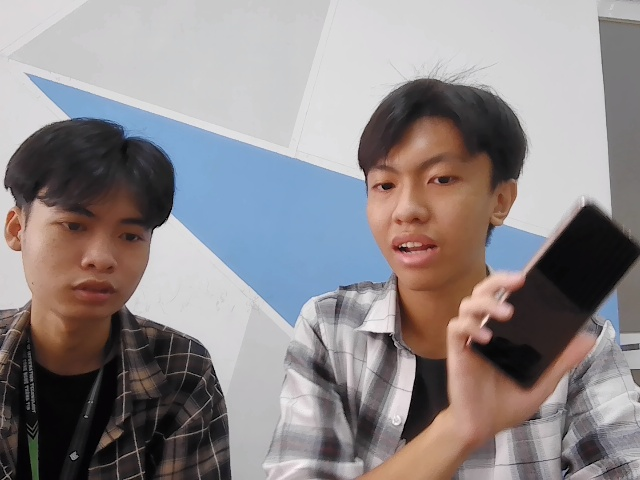human: (357, 80, 523, 287), (8, 120, 178, 321)
phone: (471, 193, 638, 393)
